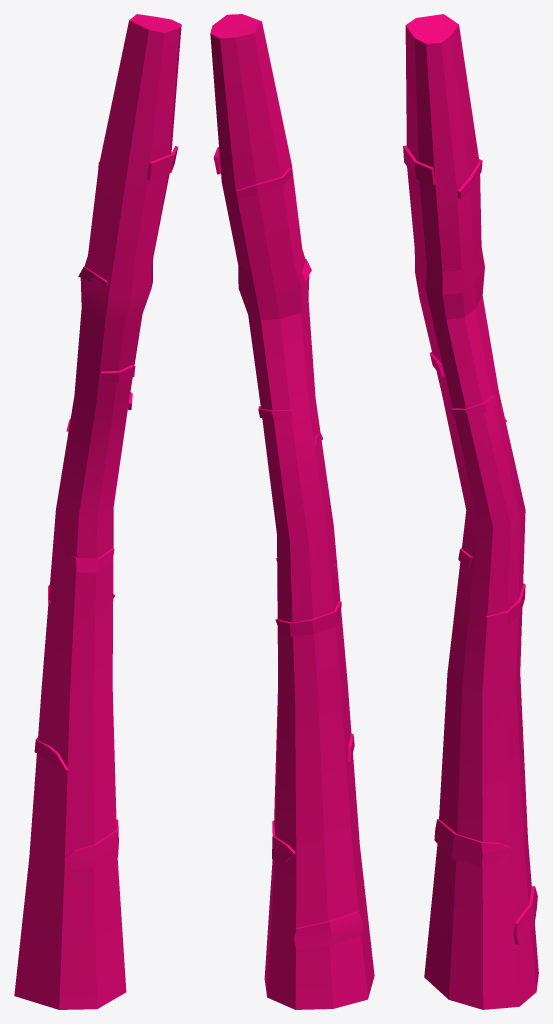
Rendered from SM_SS_Birch_2.fbx.
3 renders of one model, left to right at view 1: azimuth 30°, elevation 25°; view 2: azimuth 210°, elevation 25°; view 3: azimuth 270°, elevation 25°, orthographic. The views are drawn at different scales.
Parts seen in each view (by area): view 1: SM_SS_Birch_2; view 2: SM_SS_Birch_2; view 3: SM_SS_Birch_2.
Part boxes in pixels (x1,y1,x2,y2): SM_SS_Birch_2: [14, 14, 181, 1009]; SM_SS_Birch_2: [210, 14, 374, 1009]; SM_SS_Birch_2: [403, 14, 538, 1009].
Size of the model in its own units: 28.71 by 25.35 by 204.
